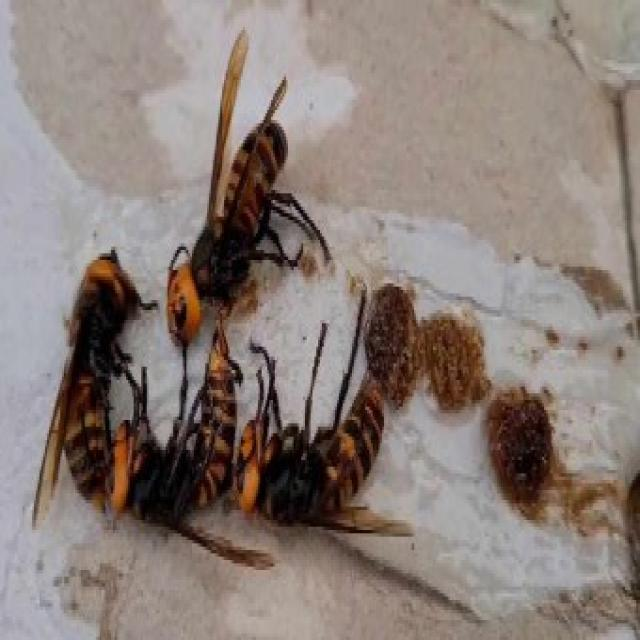Wasp: (159, 25, 332, 328), (249, 356, 405, 534), (40, 226, 120, 513)
